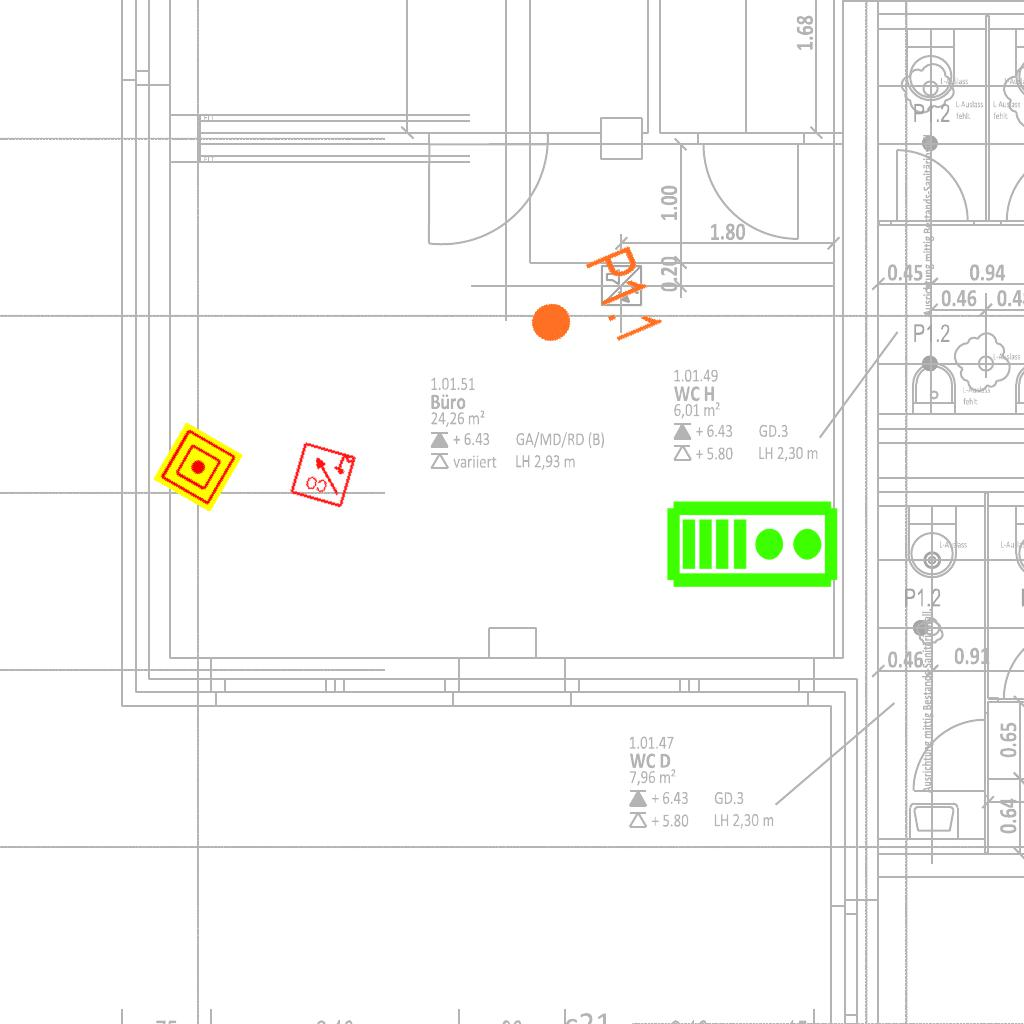Downlight_LED_Einbauleuchten_Flur: (513, 241, 668, 377)
Gegensprechanlage_mit_Video: (665, 495, 841, 590)
NAM-Nichtautomatischer_Melder: (152, 421, 244, 513)
ROA_Rauchmelder_optisch_mit_Signalgeber_(Sockelsirene): (288, 439, 358, 509)
